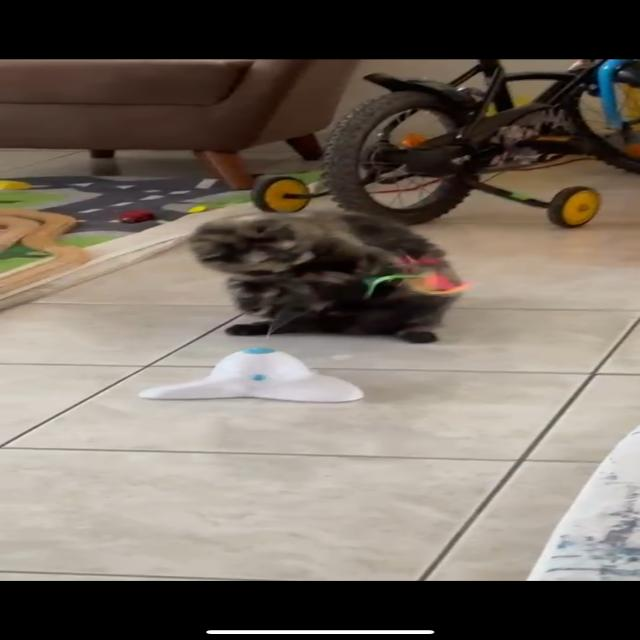authorized: (187, 209, 466, 343)
